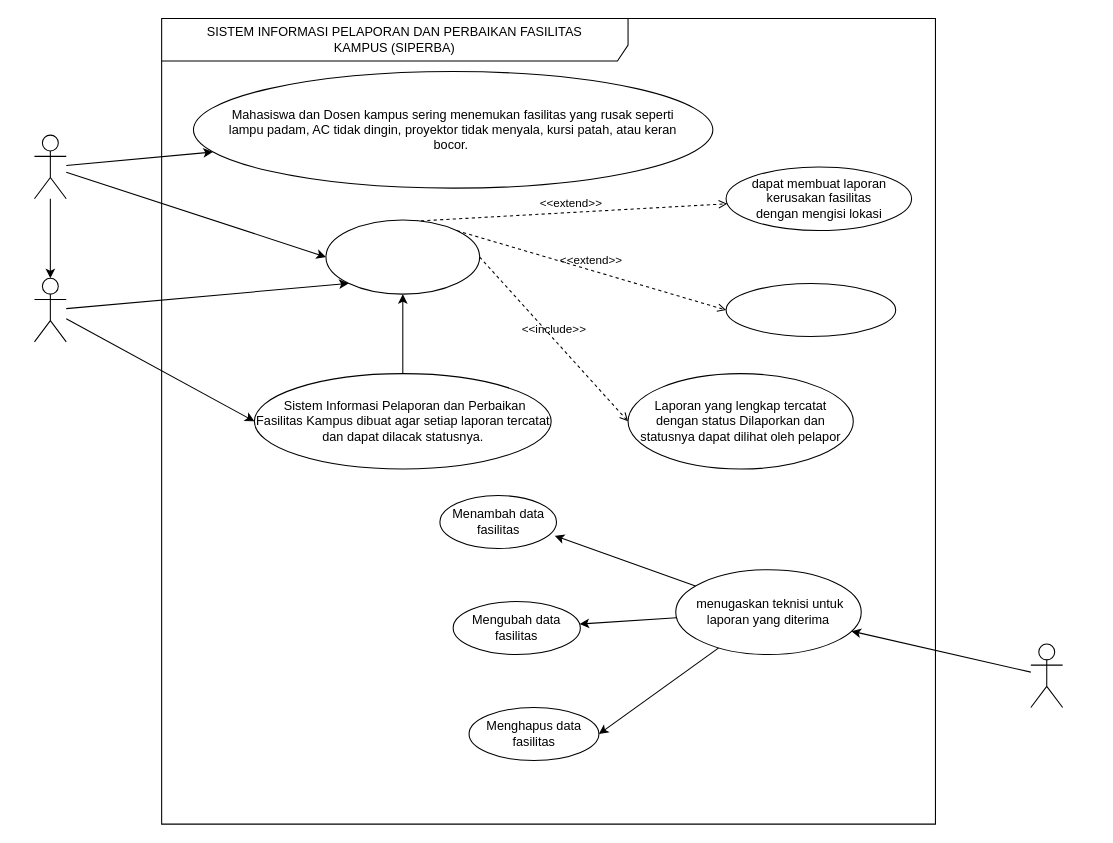
Some shapes in this 1113 by 843 pixel diagram are drawn without their labels. Here are the shapes that lost their labels. From the top down, the centre of each, then its label:
At pixel 49 166: "Mahasiswa".
At pixel 402 256: "melihat laporan perbaikan.".
At pixel 49 309: "Dosen".
At pixel 810 309: "jenis kerusakan".
At pixel 1046 675: "Petugas Fasilitas".
